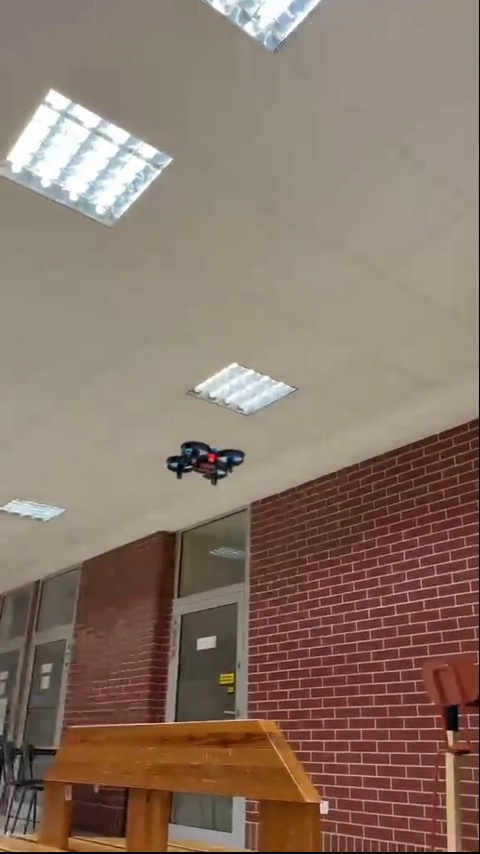drone: (166, 443, 249, 479)
